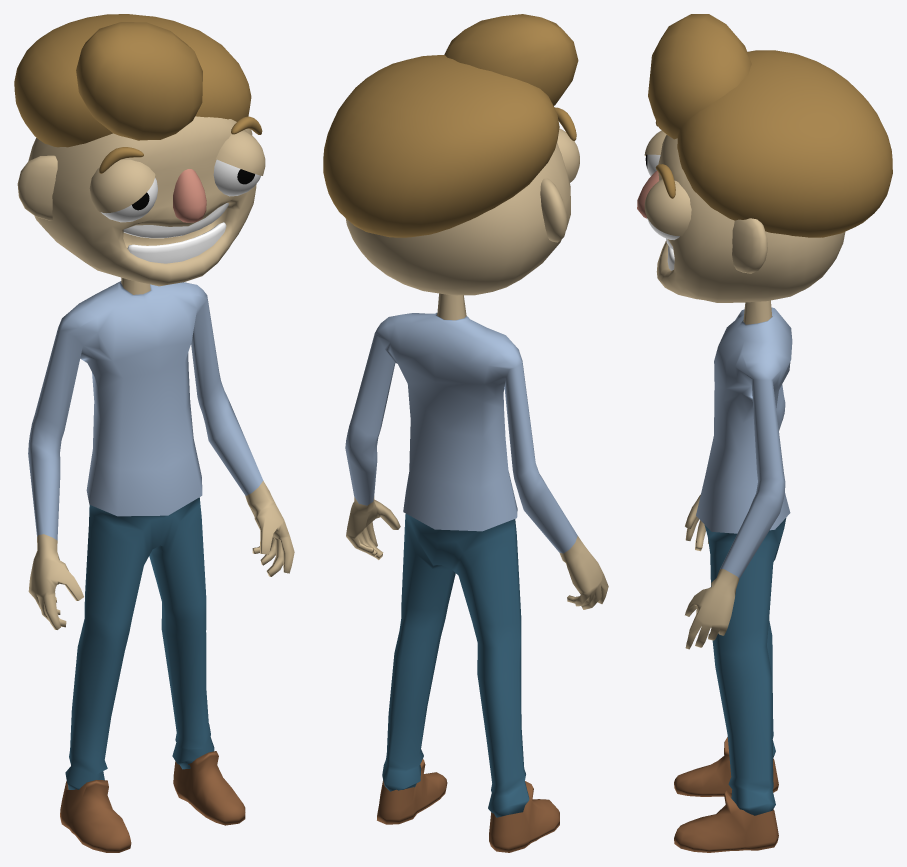
The model's file is MOD_Character.fbx.
3 renders of one model, left to right at view 1: azimuth 30°, elevation 25°; view 2: azimuth 150°, elevation 25°; view 3: azimuth 270°, elevation 25°, orthographic. The views are drawn at different scales.
Visible parts, largest first — view 1: MOD_CharacterBody, Face_Main, pCube7, pCube6, Face_SadEyelids, Face_Nose, Face_L_Eye, Face_Eyebrows, Face_R_Eye; view 2: MOD_CharacterBody, pCube7, Face_Main, pCube6, Face_SadEyelids; view 3: MOD_CharacterBody, pCube7, Face_Main, pCube6, Face_SadEyelids.
Part boxes in pixels (x1,y1,x2,y2): MOD_CharacterBody: [28, 277, 294, 852]; Face_Main: [17, 116, 256, 286]; pCube7: [14, 14, 251, 147]; pCube6: [76, 22, 202, 140]; Face_SadEyelids: [89, 130, 265, 212]; Face_Nose: [173, 169, 206, 222]; Face_L_Eye: [213, 159, 260, 196]; Face_Eyebrows: [99, 116, 262, 173]; Face_R_Eye: [101, 178, 157, 222]; MOD_CharacterBody: [345, 293, 608, 852]; pCube7: [323, 55, 559, 237]; Face_Main: [345, 142, 570, 295]; pCube6: [444, 14, 578, 105]; Face_SadEyelids: [557, 128, 579, 182]; MOD_CharacterBody: [674, 300, 792, 852]; pCube7: [677, 50, 892, 237]; Face_Main: [656, 135, 845, 302]; pCube6: [648, 14, 751, 139]; Face_SadEyelids: [644, 130, 691, 236].
Size of the model in its own units: 36.49 by 114 by 34.19.
